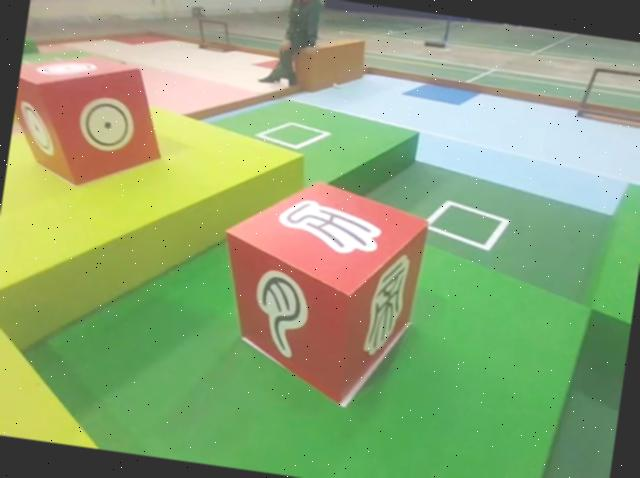R2 Fake: (203, 169, 434, 414)
R2 Real: (7, 46, 173, 195)
